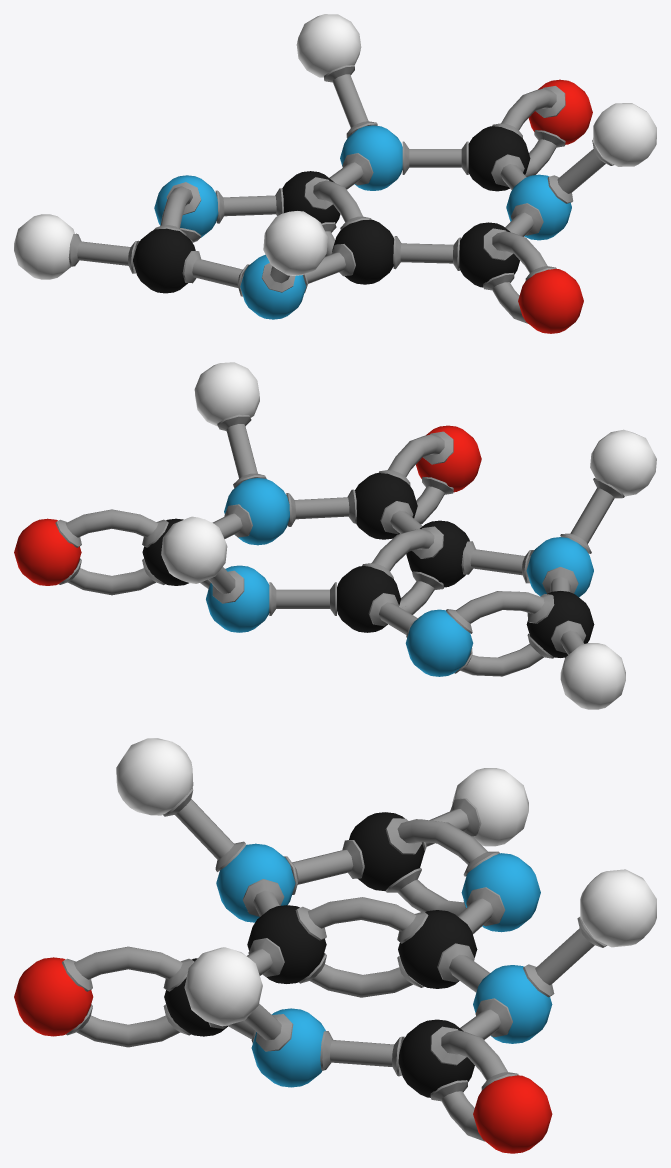
File: SM_Xantine_Purine_Molecule_LOD0.FBX
The picture shows the model from 3 angles, top to bottom: view 1: azimuth 30°, elevation 25°; view 2: azimuth 150°, elevation 25°; view 3: azimuth 270°, elevation 25°; orthographic projection. The views are drawn at different scales.
Visible parts, largest first — view 1: SM_Xantine_Purine_Molecule; view 2: SM_Xantine_Purine_Molecule; view 3: SM_Xantine_Purine_Molecule.
Boxes of the visible parts, bbox=[...] form: SM_Xantine_Purine_Molecule: bbox=[14, 14, 656, 333]; SM_Xantine_Purine_Molecule: bbox=[14, 362, 656, 709]; SM_Xantine_Purine_Molecule: bbox=[14, 738, 656, 1153].
Size of the model in its own units: 0.3042 by 0.0755 by 0.243.
Materials: 1 (1 with a texture image).
